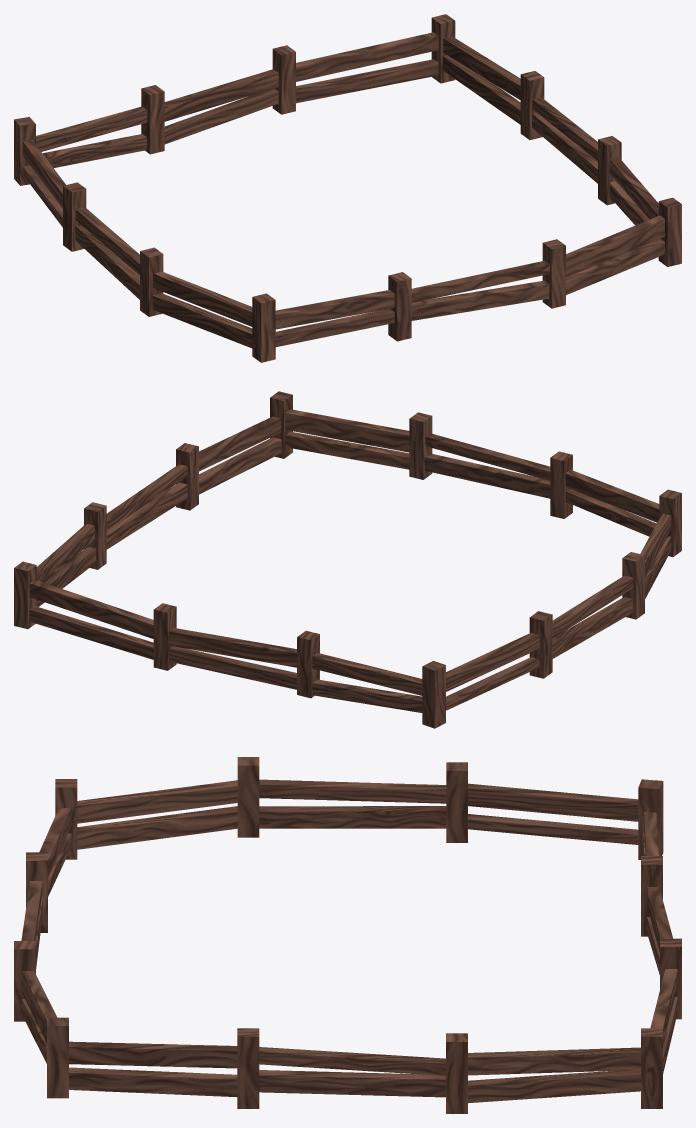
File: Zaun_ganz.fbx
The picture shows the model from 3 angles, top to bottom: view 1: azimuth 30°, elevation 25°; view 2: azimuth 150°, elevation 25°; view 3: azimuth 270°, elevation 25°; orthographic projection. The views are drawn at different scales.
Visible parts, largest first — view 1: Cube.024; view 2: Cube.024; view 3: Cube.024.
Boxes of the visible parts, bbox=[...] form: Cube.024: bbox=[14, 14, 681, 362]; Cube.024: bbox=[14, 391, 681, 728]; Cube.024: bbox=[14, 757, 681, 1113].
Bounding box in the file's own units: 1057 × 125 × 1046.
